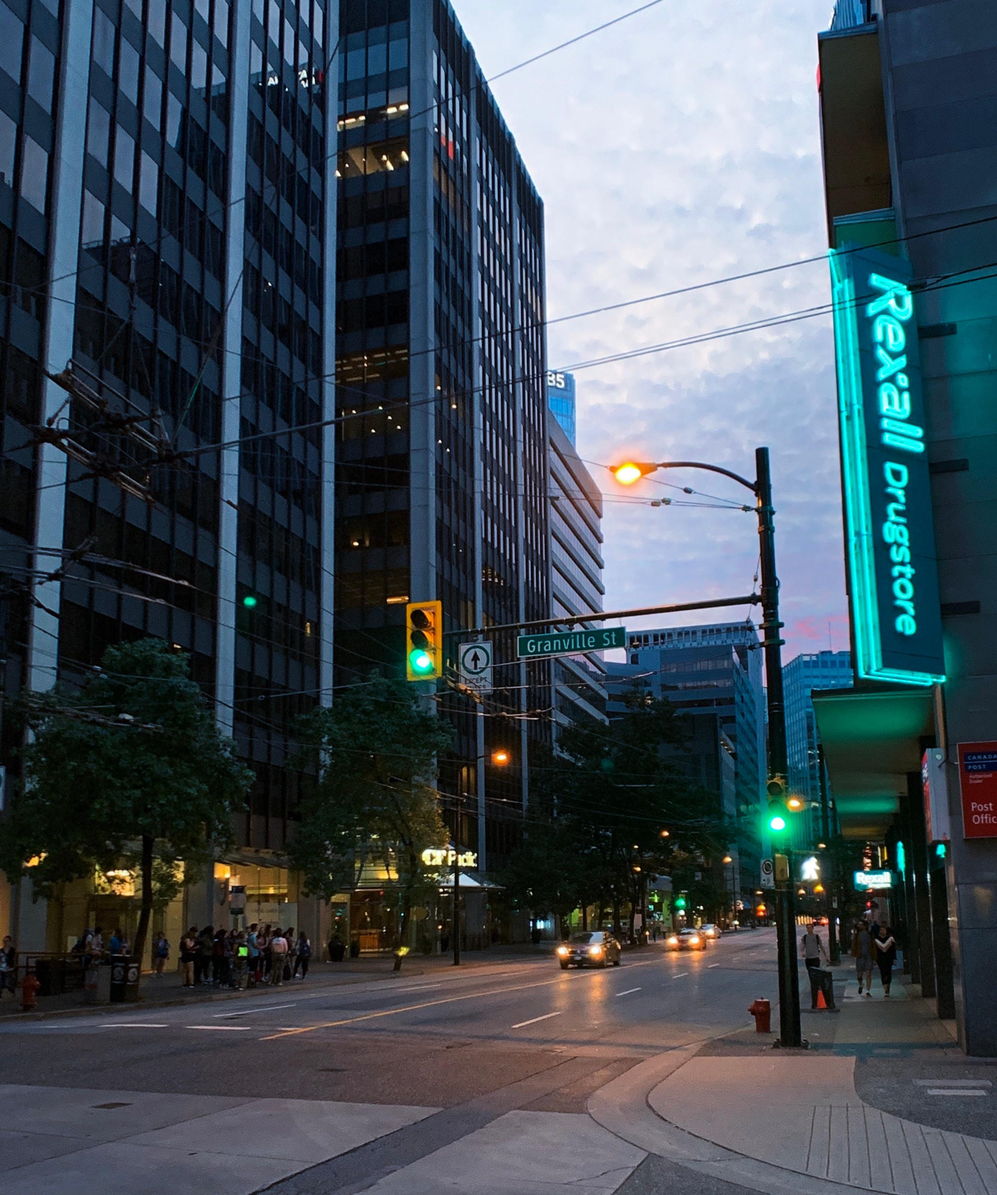Traffic light green: (390, 588, 468, 693)
